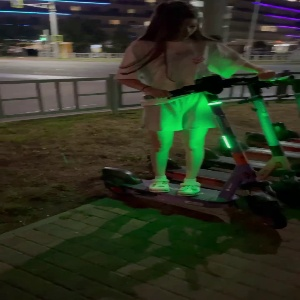human on a scooter: (101, 1, 288, 229)
